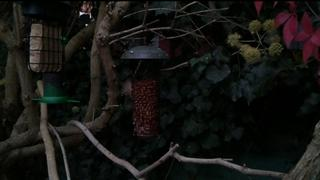mouse: (121, 76, 133, 99)
